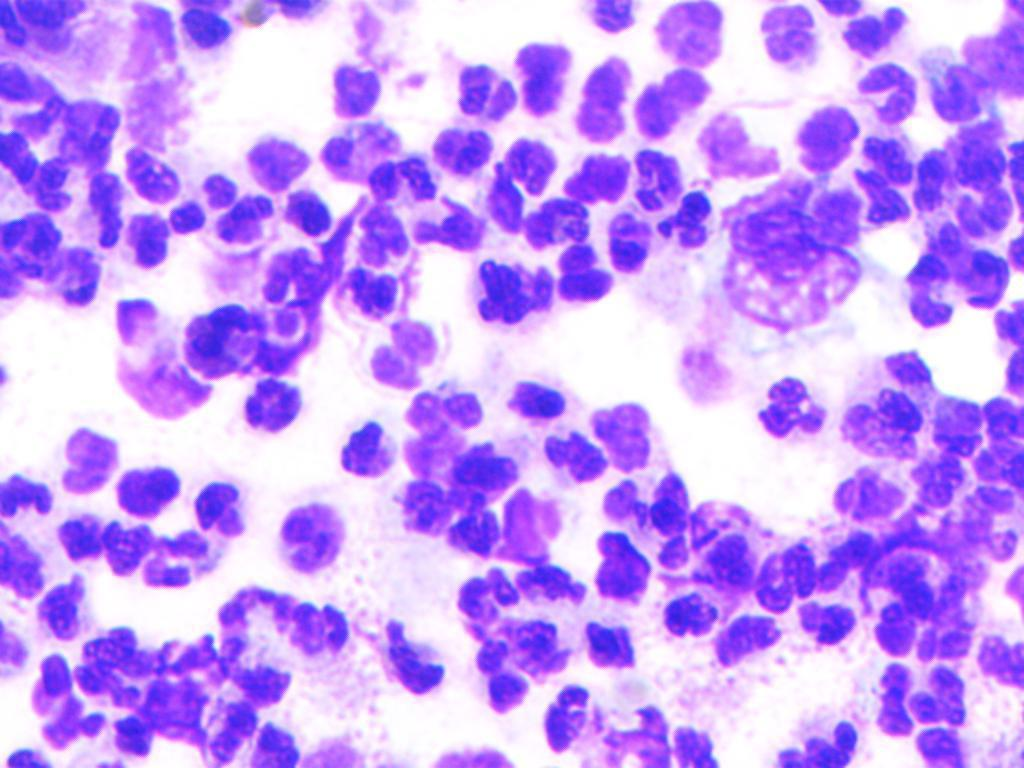artifact: (718, 201, 870, 343)
neutrophil: (473, 140, 597, 253), (307, 114, 434, 218), (155, 292, 264, 384), (887, 347, 980, 453), (31, 644, 112, 762), (210, 592, 293, 700), (431, 56, 538, 136), (731, 538, 822, 628), (599, 470, 698, 552), (269, 497, 353, 586), (749, 362, 830, 454), (97, 450, 192, 526), (848, 134, 920, 234), (328, 257, 416, 336), (408, 392, 486, 481), (573, 598, 650, 688), (329, 400, 404, 490), (651, 572, 728, 656), (185, 468, 256, 556), (547, 228, 622, 310), (467, 254, 552, 326), (895, 248, 966, 332), (499, 364, 574, 442), (843, 392, 918, 470), (745, 2, 816, 82), (1, 130, 73, 207), (652, 0, 728, 71), (458, 641, 534, 712), (423, 118, 500, 188), (370, 318, 447, 388), (633, 74, 717, 136), (589, 404, 669, 467), (777, 716, 872, 768), (837, 4, 924, 60), (211, 190, 284, 256), (237, 372, 312, 436), (1, 206, 64, 282), (511, 38, 568, 121), (382, 620, 443, 694), (0, 57, 64, 127), (82, 620, 143, 692), (448, 568, 513, 634), (655, 186, 718, 252), (581, 56, 626, 148), (512, 560, 591, 612), (853, 66, 918, 129), (117, 208, 182, 270), (284, 598, 352, 657), (462, 440, 530, 497), (922, 71, 996, 123), (982, 400, 1024, 490), (3, 0, 82, 47), (509, 617, 570, 677), (537, 431, 607, 483), (38, 570, 90, 640), (241, 131, 307, 184), (830, 467, 904, 514), (911, 664, 967, 726), (148, 536, 212, 589), (952, 128, 1004, 193), (94, 526, 160, 577), (323, 59, 382, 116), (540, 682, 597, 741), (60, 422, 110, 488), (971, 634, 1024, 696), (397, 481, 454, 537), (913, 452, 966, 511), (718, 620, 783, 668), (792, 599, 858, 646), (823, 531, 873, 592), (202, 707, 256, 763), (886, 560, 946, 610), (86, 170, 123, 248), (993, 304, 1024, 397), (57, 246, 102, 310), (909, 726, 977, 768), (61, 99, 118, 149), (873, 664, 914, 733), (3, 466, 54, 520), (459, 492, 501, 557), (912, 154, 956, 214), (956, 190, 1016, 234), (128, 143, 176, 197), (673, 720, 726, 767), (869, 601, 914, 654), (106, 713, 160, 756), (247, 726, 302, 768), (61, 511, 103, 566), (971, 248, 1007, 312), (287, 192, 333, 241), (177, 0, 229, 41), (583, 3, 641, 38), (114, 292, 151, 343), (929, 219, 969, 257)
